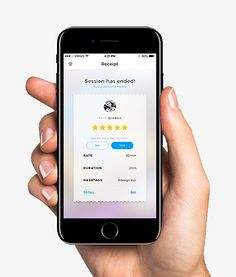phone: (22, 21, 213, 272)
